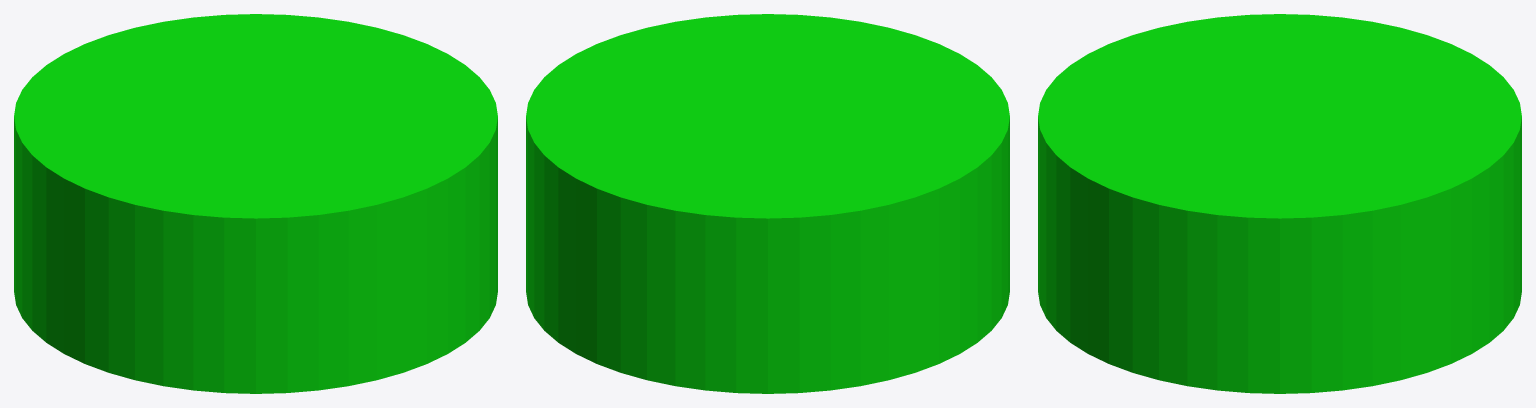
File: status_light_ok_p.obj
3 renders of one model, left to right at view 1: azimuth 30°, elevation 25°; view 2: azimuth 150°, elevation 25°; view 3: azimuth 270°, elevation 25°, orthographic.
Visible parts, largest first — view 1: led; view 2: led; view 3: led.
Boxes of the visible parts, x1,y1,x2,y2 form: led: (14, 14, 497, 393); led: (526, 14, 1009, 393); led: (1038, 14, 1521, 393).
Bounding box in the file's own units: 0.05 × 0.02 × 0.05.
